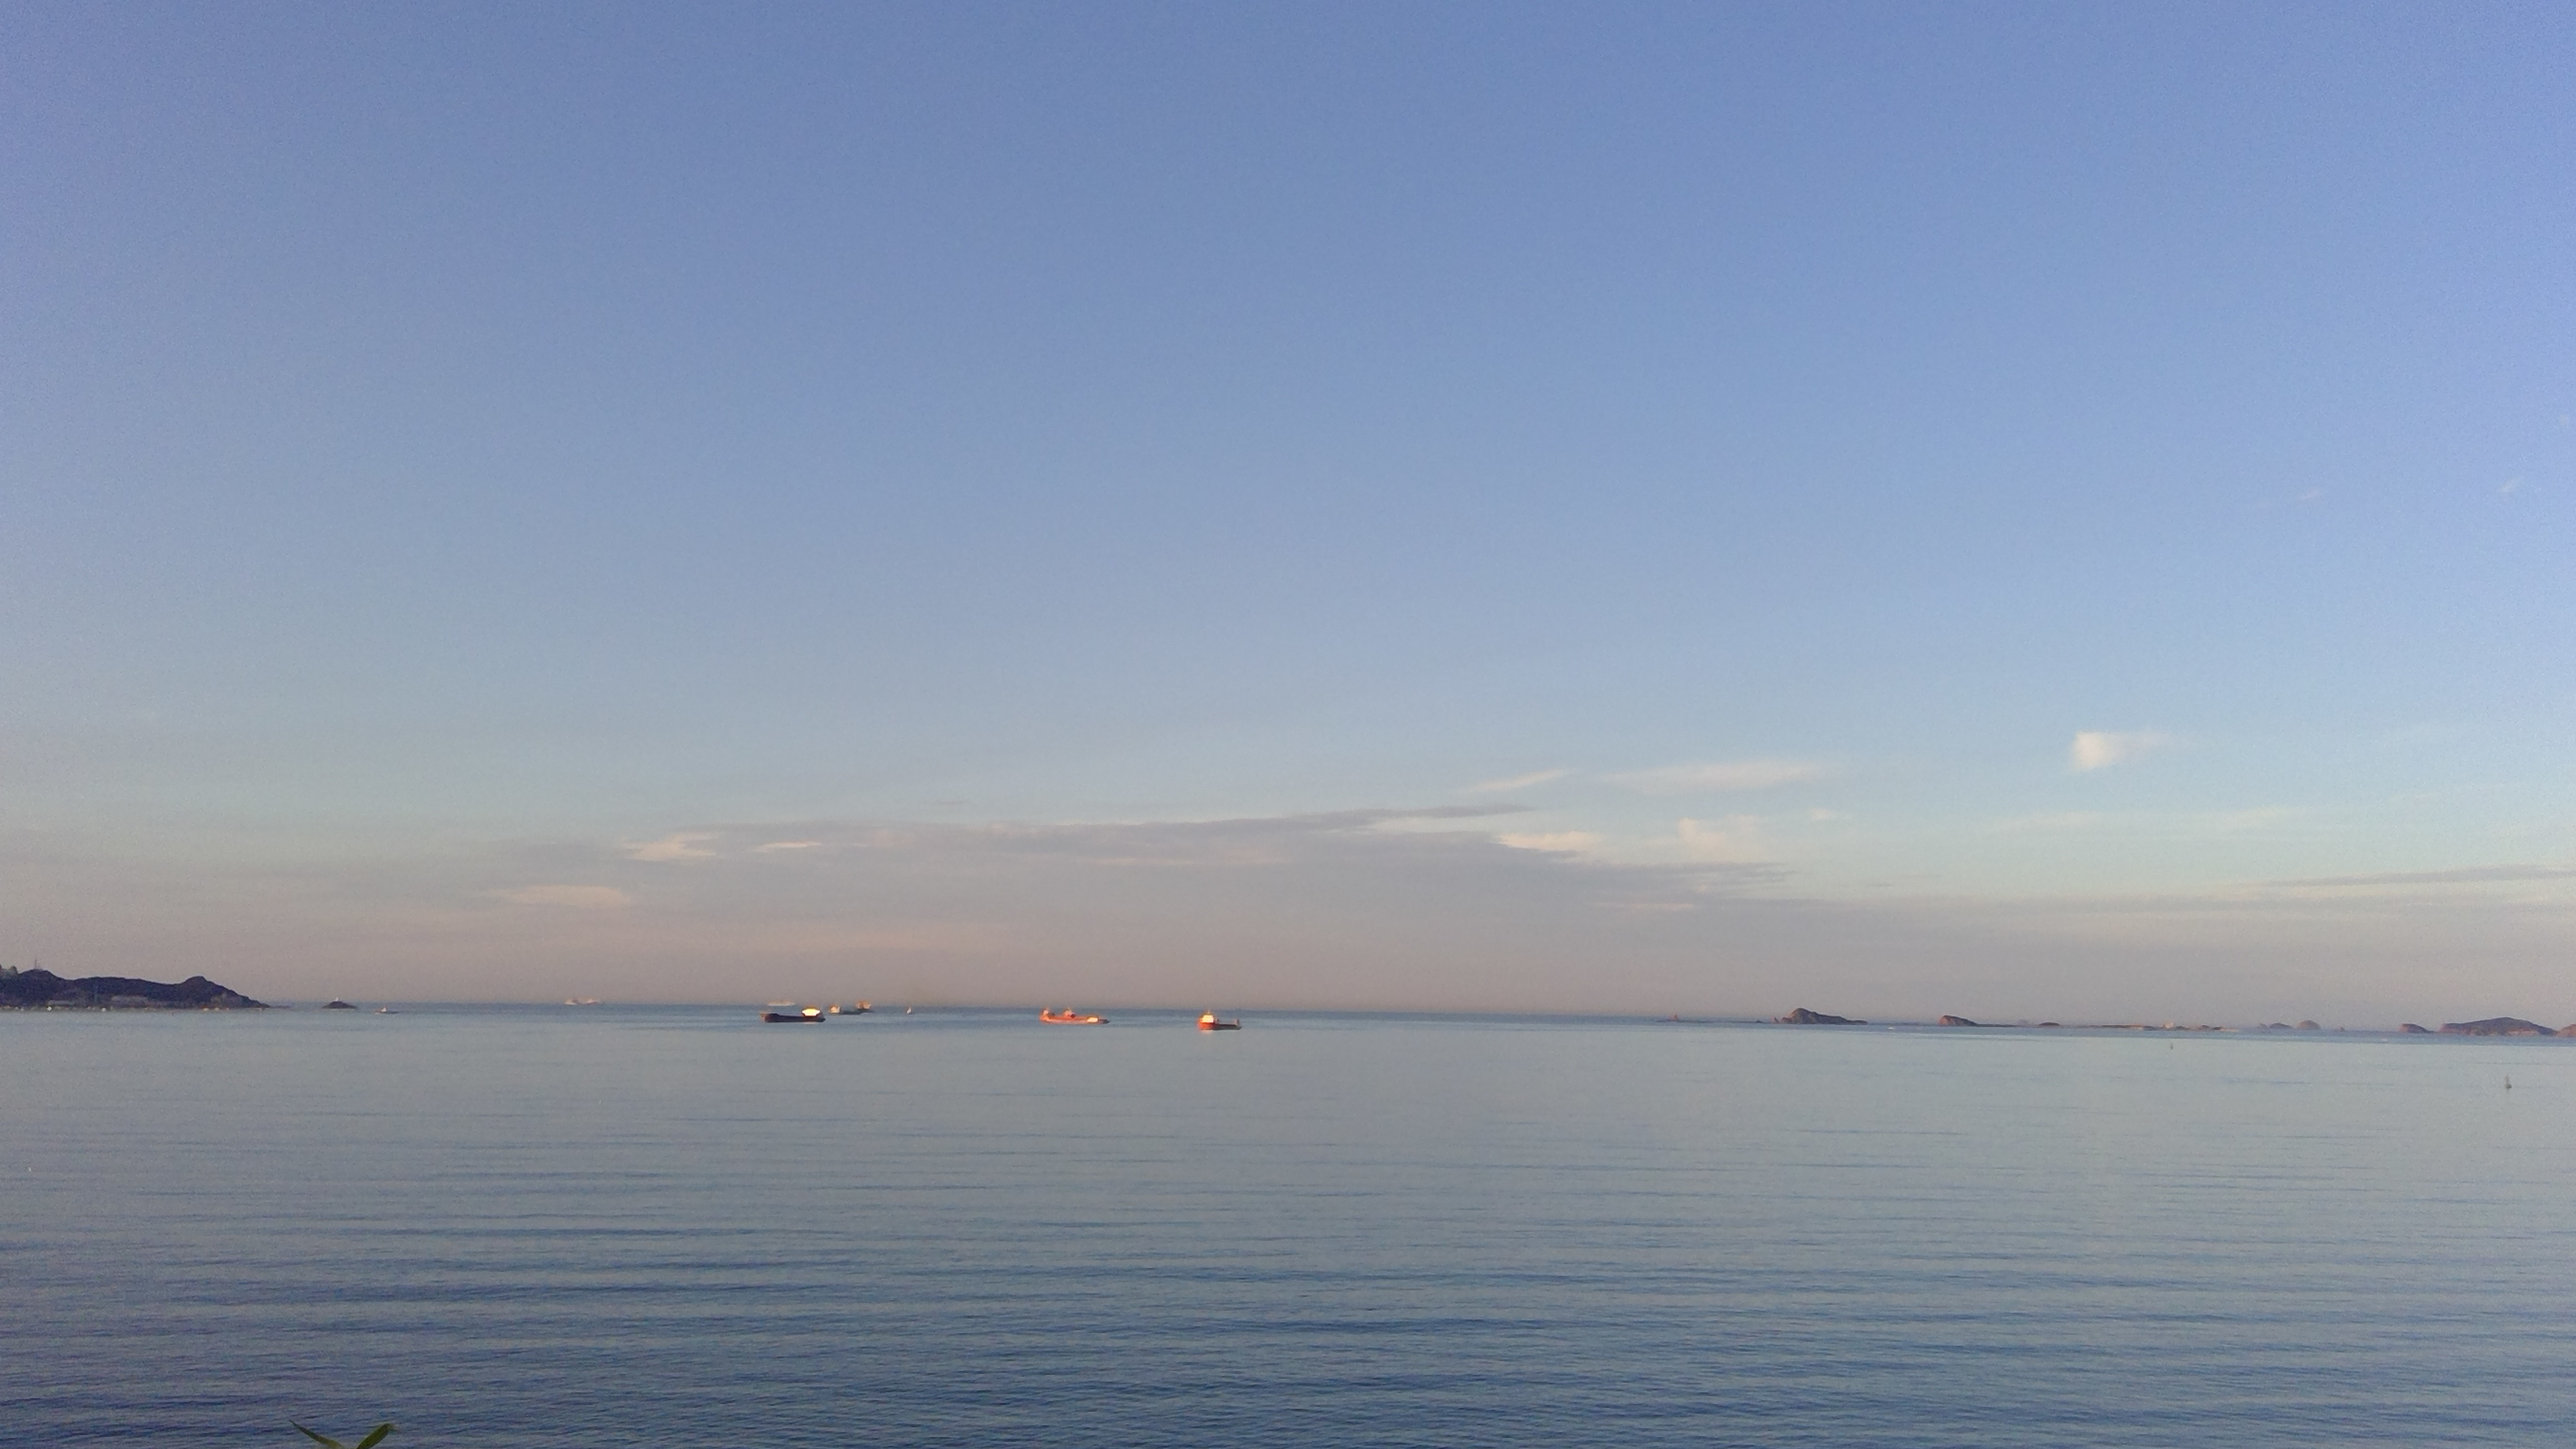rock: (2, 957, 265, 1014), (2376, 1014, 2574, 1047), (1767, 1000, 1874, 1033)
ship: (1026, 993, 1122, 1031), (750, 998, 839, 1037), (1189, 1000, 1247, 1040)
